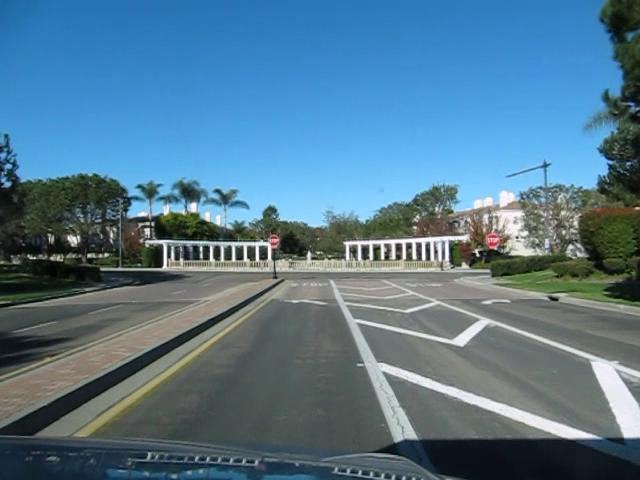stop: (485, 232, 500, 247), (266, 233, 279, 247)
